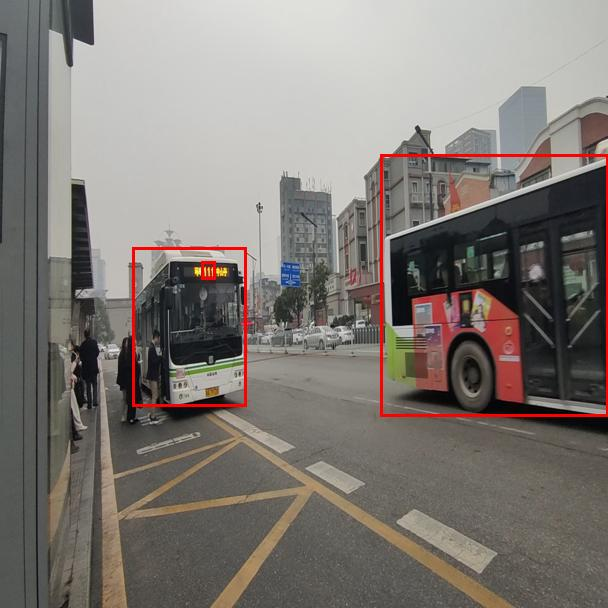bus: (380, 154, 608, 416), (132, 247, 246, 406)
screen: (201, 261, 215, 279)
